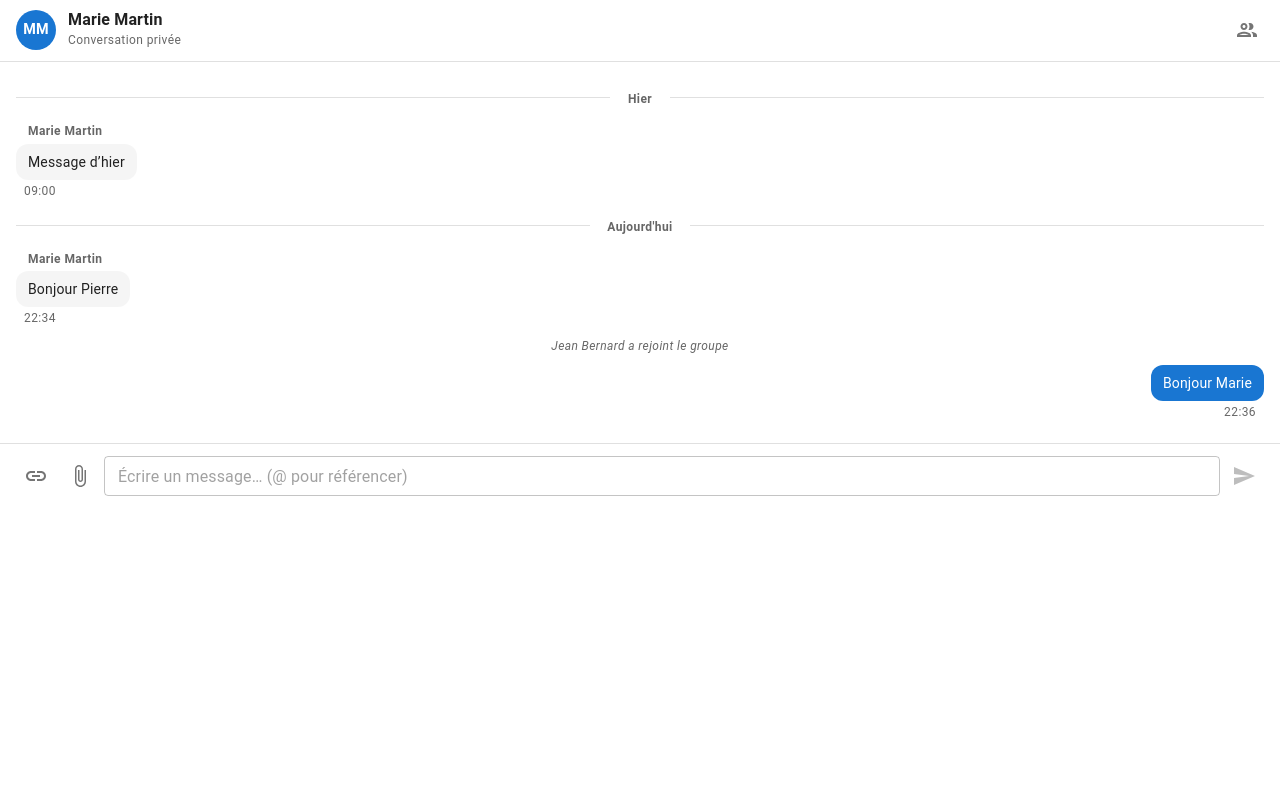
ConversationThread › « Membres » ouvre le dialogue des membres
Click the button named "Membres": (1247, 30) x1=1230 y1=13 x2=1264 y2=47
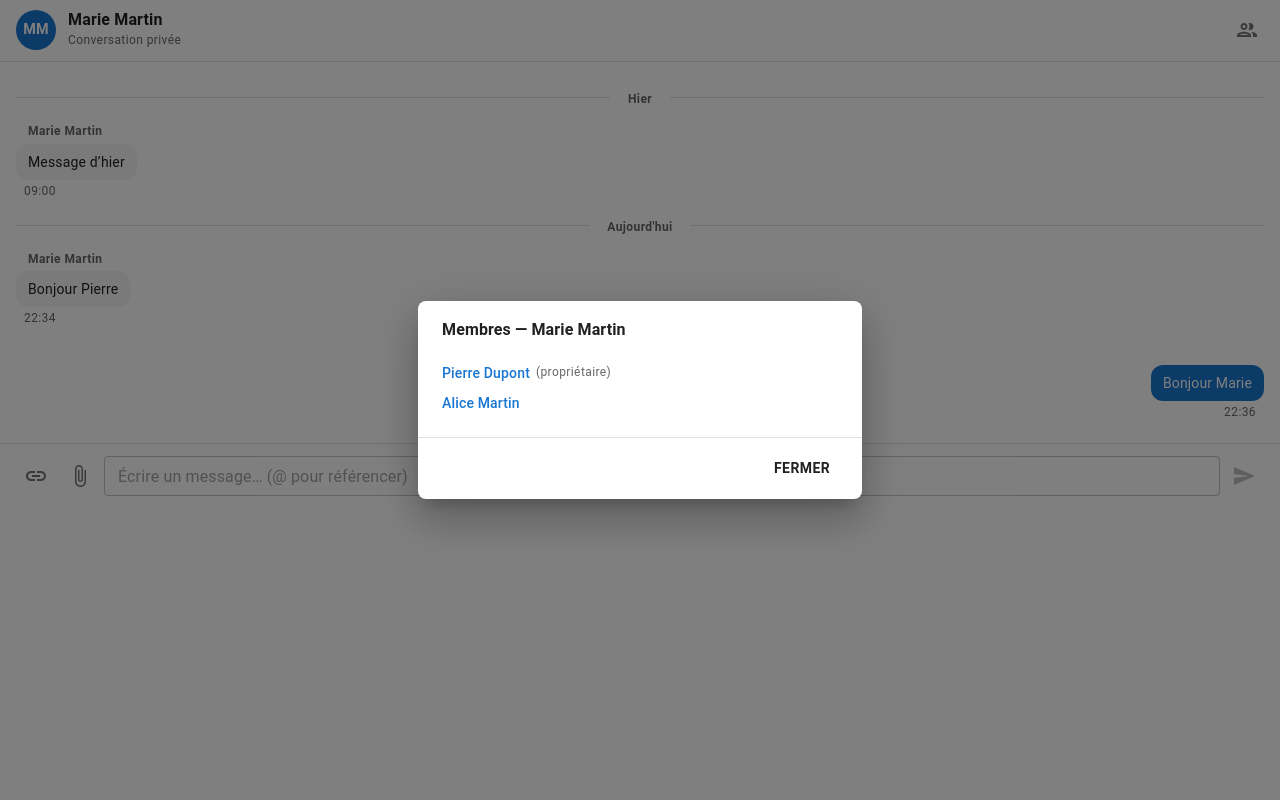
Now the dialog "Membres — " is shown, box x1=418 y1=301 x2=862 y2=498
